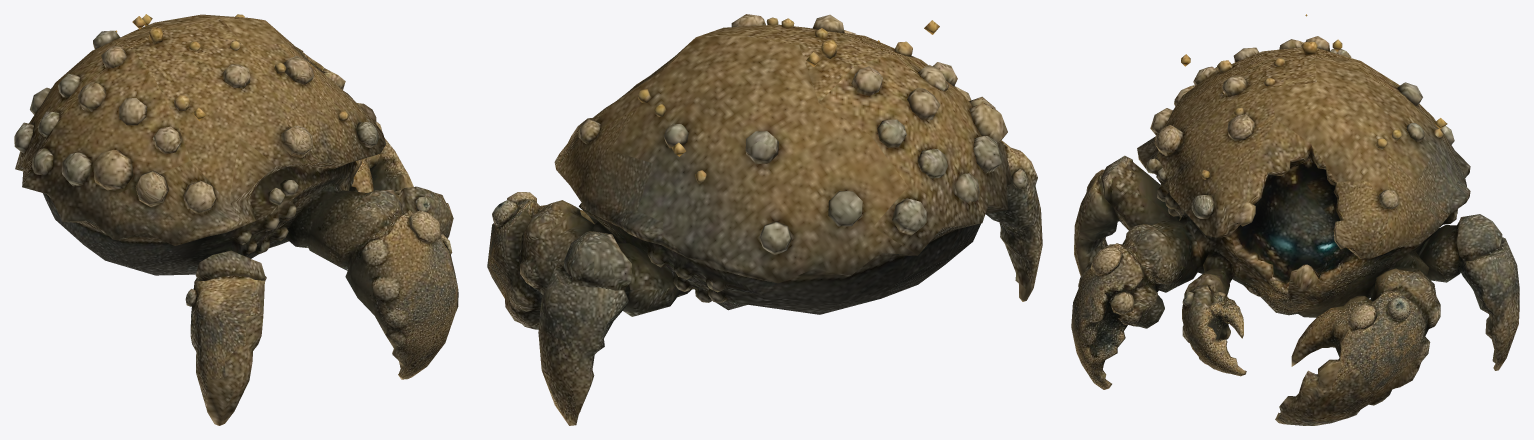
Rendered from hadal-silt-crawler-echo.glb.
3 renders of one model, left to right at view 1: azimuth 30°, elevation 25°; view 2: azimuth 150°, elevation 25°; view 3: azimuth 270°, elevation 25°, orthographic. The views are drawn at different scales.
Visible parts, largest first — view 1: tripo_node_909d10a7-2850-4b79-8701-4abe5b5a2b66; view 2: tripo_node_909d10a7-2850-4b79-8701-4abe5b5a2b66; view 3: tripo_node_909d10a7-2850-4b79-8701-4abe5b5a2b66.
Part boxes in pixels (x1,y1,x2,y2): tripo_node_909d10a7-2850-4b79-8701-4abe5b5a2b66: (14,14,458,425); tripo_node_909d10a7-2850-4b79-8701-4abe5b5a2b66: (487,14,1042,425); tripo_node_909d10a7-2850-4b79-8701-4abe5b5a2b66: (1071,14,1519,425).
Size of the model in its own units: 0.9629 by 0.7207 by 0.998.
Materials: 1 (1 with a texture image).
